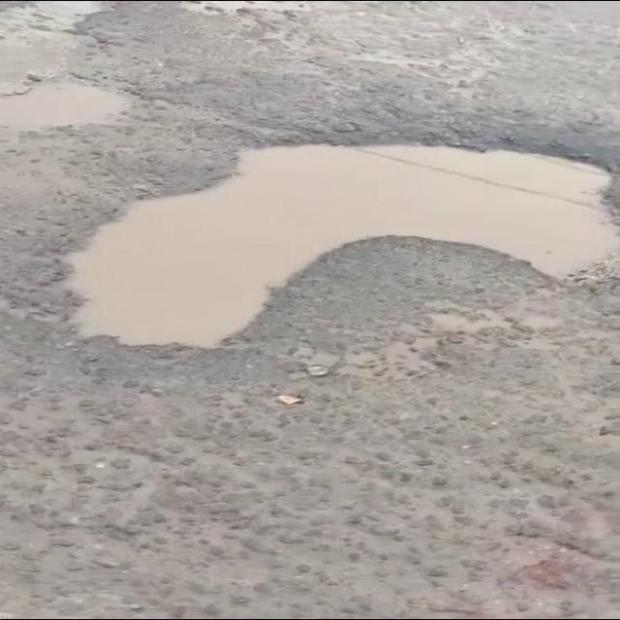lubang: (68, 145, 619, 347), (0, 81, 135, 151), (0, 2, 115, 56)
